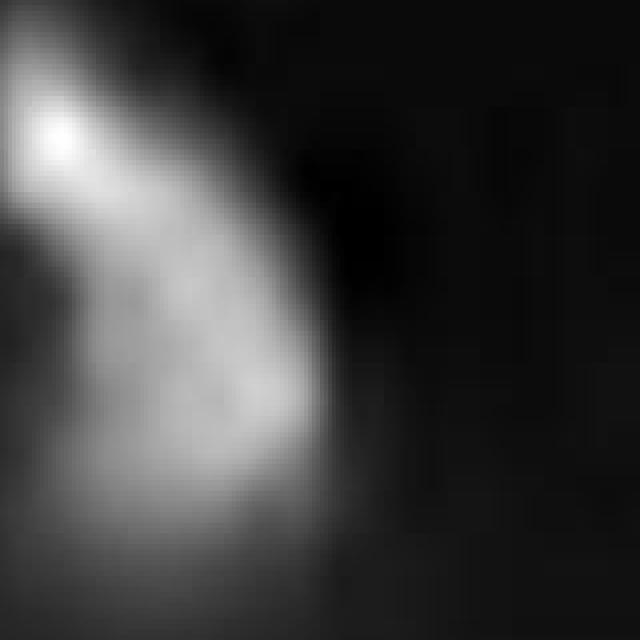person: (1, 1, 349, 636)
